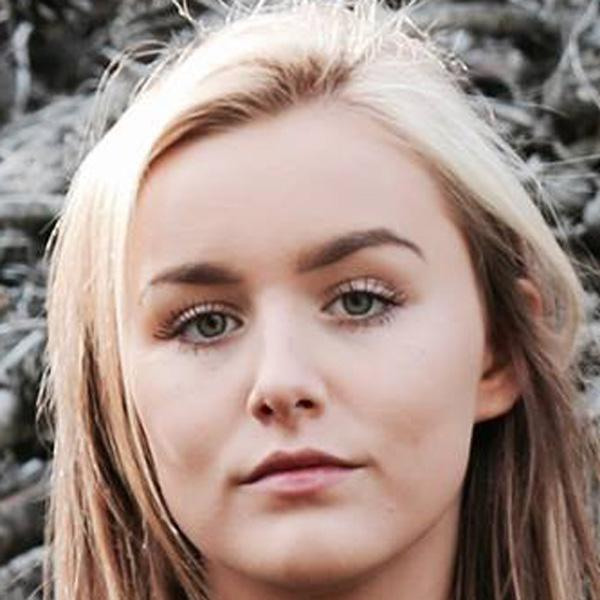Eyes: (151, 290, 259, 362), (308, 271, 411, 335)
